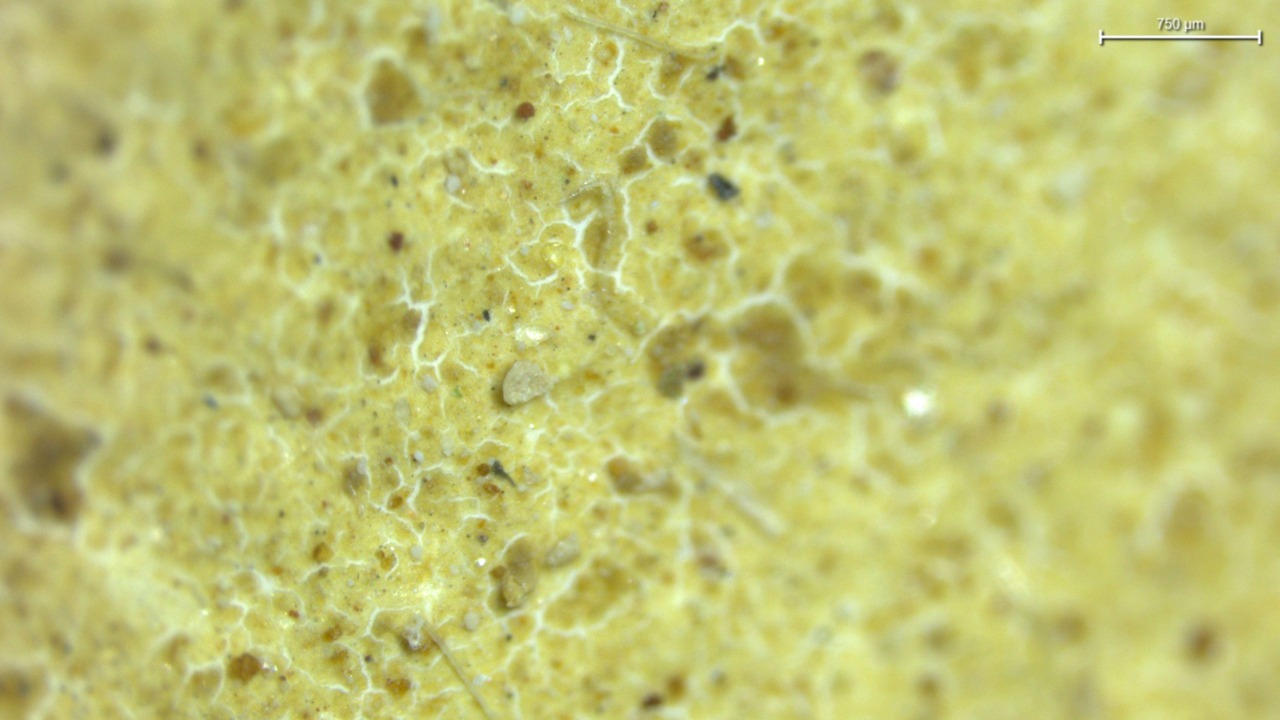microplastic_fragment: (494, 539, 537, 608), (503, 360, 552, 405)
